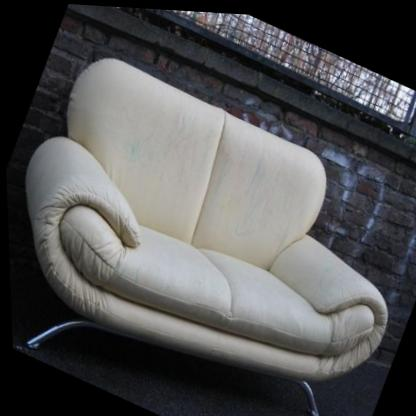Sofa: (1, 31, 416, 416)
